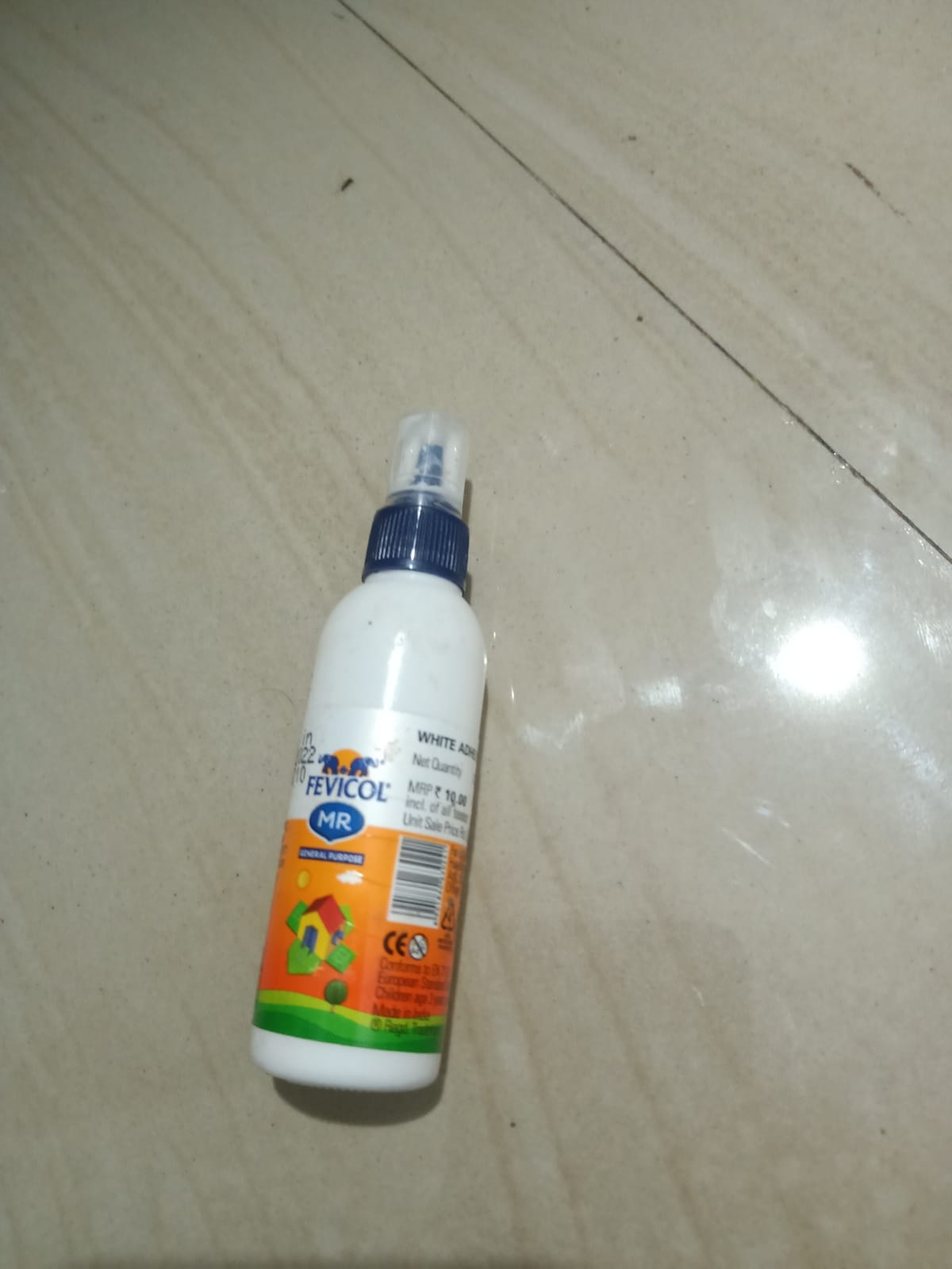plastic: (186, 408, 632, 1269)
